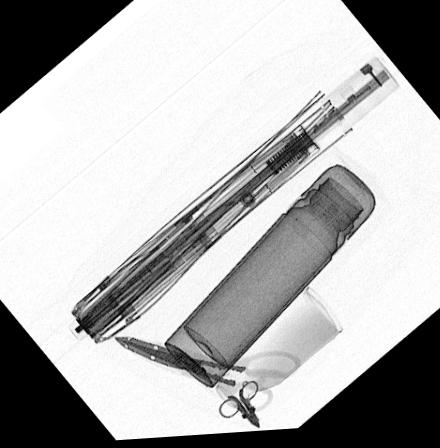Scissors: (112, 335, 301, 417), (216, 381, 261, 432)
